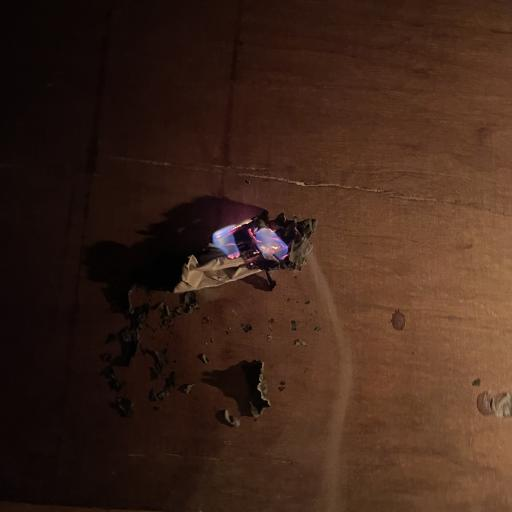fire: (190, 204, 294, 286)
